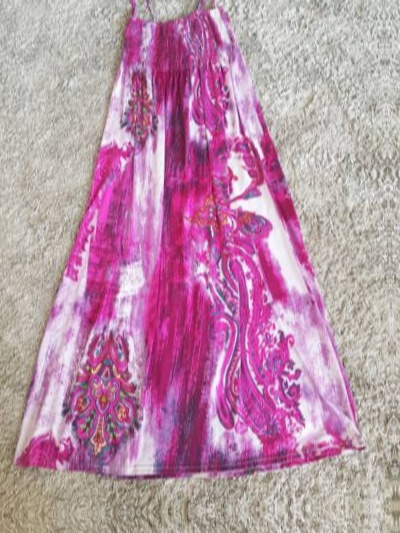Dress: (0, 0, 374, 484)
